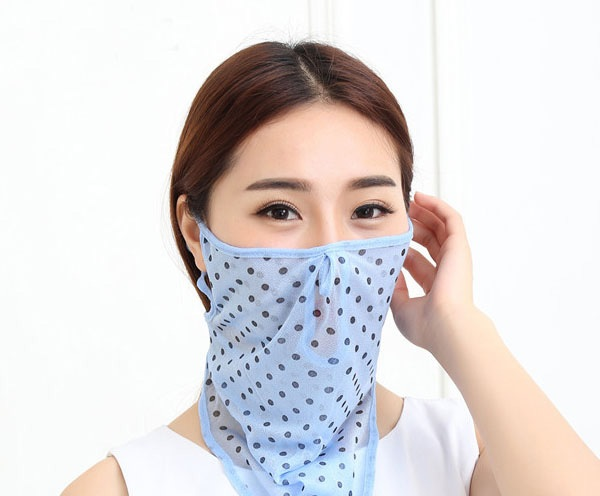face_mask: (206, 109, 411, 368)
